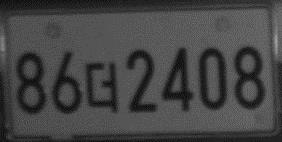0: (197, 47, 228, 109)
2: (124, 48, 159, 115)
4: (160, 47, 195, 113)
6: (48, 51, 83, 114)
8: (232, 45, 266, 110), (15, 50, 47, 114)
더: (84, 60, 119, 116)
